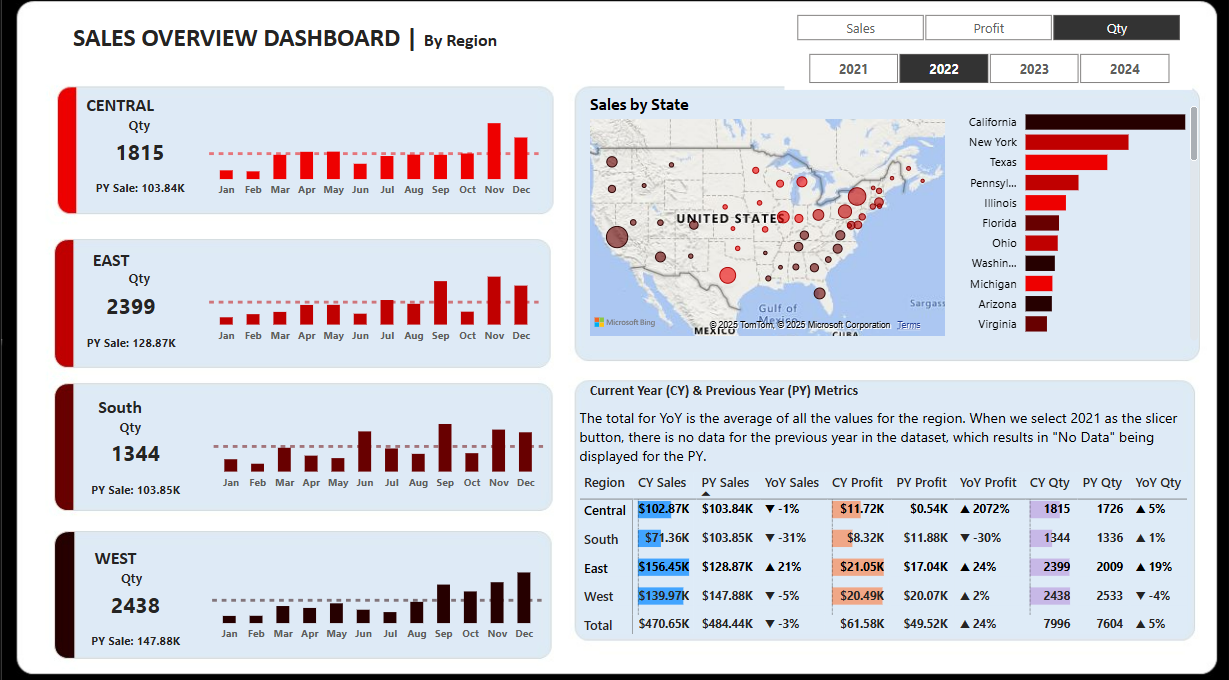

The dashboard page shown, as its layout file describes it:
{"tool":"powerbi","page":{"name":"Page 1","canvas":[1280,720],"ordinal":0},"visuals":[{"type":"slicer","fields":{"Values":["Select Metric.Select Metric"]},"box":[804.3,12.5,448.2,40.6],"z":0},{"type":"card","fields":{"Values":["Sales Data.Total Sales"]},"box":[68.7,140.6,156.2,45.3],"z":1000},{"type":"textbox","box":[79.7,96.8,90.6,43.7],"z":2000},{"type":"slicer","fields":{"Values":["Calendar Table.Year"]},"box":[817,52.5,424.4,44.5],"z":3000},{"type":"card","fields":{"Values":["Sales Data.Dynamic Title"]},"box":[79.7,118.7,132.8,35.9],"z":4000},{"type":"card","fields":{"Values":["Sales Data.PY KPI Sales"]},"box":[79.7,185.9,132.8,32.8],"z":5000},{"type":"clusteredColumnChart","fields":{"Y":["Sales Data.Total Sales"],"Category":["Calendar Table.Month"]},"box":[212.4,106.2,354.5,112.5],"z":6000},{"type":"textbox","box":[32.8,21.9,534.1,48.4],"z":7000},{"type":"card","fields":{"Values":["Sales Data.Total Sales"]},"box":[60,301.5,156.2,45.3],"z":8000},{"type":"textbox","box":[70.9,257.8,90.6,43.7],"z":9000},{"type":"card","fields":{"Values":["Sales Data.PY KPI Sales"]},"box":[70.9,346.8,132.8,32.8],"z":10000},{"type":"clusteredColumnChart","fields":{"Y":["Sales Data.Total Sales"],"Category":["Calendar Table.Month"]},"box":[212.4,257.7,354.5,112.5],"z":11000},{"type":"card","fields":{"Values":["Sales Data.Total Sales"]},"box":[64.8,455.2,156.2,45.3],"z":12000},{"type":"textbox","box":[79.7,410.8,90.6,43.7],"z":13000},{"type":"card","fields":{"Values":["Sales Data.PY KPI Sales"]},"box":[75.7,500.5,132.8,32.8],"z":14000},{"type":"clusteredColumnChart","fields":{"Y":["Sales Data.Total Sales"],"Category":["Calendar Table.Month"]},"box":[217.2,411.4,354.5,112.5],"z":15000},{"type":"card","fields":{"Values":["Sales Data.Total Sales"]},"box":[63.7,612.5,156.2,45.3],"z":16000},{"type":"textbox","box":[74.7,568.7,90.6,43.7],"z":17000},{"type":"card","fields":{"Values":["Sales Data.PY KPI Sales"]},"box":[74.7,657.7,132.8,32.8],"z":18000},{"type":"clusteredColumnChart","fields":{"Y":["Sales Data.Total Sales"],"Category":["Calendar Table.Month"]},"box":[216.2,568.6,354.5,112.5],"z":19000},{"type":"card","fields":{"Values":["Sales Data.Dynamic Title"]},"box":[79.7,278,132.8,35.9],"z":20000},{"type":"card","fields":{"Values":["Sales Data.Dynamic Title"]},"box":[70.3,432.6,132.8,35.9],"z":21000},{"type":"card","fields":{"Values":["Sales Data.Dynamic Title"]},"box":[71.8,589.6,132.3,35.9],"z":22000},{"type":"map","title":"Sales by State","fields":{"Size":["Sales Data.Total Sales"],"Category":["Sales Data.State/Province"],"Series":["Sales Data.Region"]},"box":[609.1,101.5,379.5,257.7],"z":23000},{"type":"barChart","fields":{"Y":["Sales Data.Total Sales"],"Category":["Sales Data.State/Province"],"Series":["Sales Data.Region"]},"box":[988.6,101.5,263.9,262.4],"z":24000},{"type":"pivotTable","fields":{"Rows":["Sales Data.Region"],"Values":["Sales Data.CY Sales","Sales Data.PY Sales","Sales Data.YoY Sales","Sales Data.CY Profit","Sales Data.PY Profit","Sales Data.YoY Profit","Sales Data.CY Qty","Sales Data.PY Qty","Sales Data.YoY Qty"]},"box":[598.2,490.4,643.5,190.5],"z":25000},{"type":"textbox","box":[609.1,395.1,299.9,37.5],"z":25001},{"type":"textbox","box":[598.2,423.3,654.4,76.5],"z":25002}]}

Visuals, with their boxes in screenshot pixels (x1, y1, x2, y2), scaled from the page's 1280x720 canvas onto the 1229x680 screenshot:
slicer - Select Metric.Select Metric: [left=772, top=12, right=1203, bottom=50]
card - Sales Data.Total Sales: [left=66, top=133, right=216, bottom=176]
textbox: [left=77, top=91, right=164, bottom=133]
slicer - Calendar Table.Year: [left=784, top=50, right=1192, bottom=92]
card - Sales Data.Dynamic Title: [left=77, top=112, right=204, bottom=146]
card - Sales Data.PY KPI Sales: [left=77, top=176, right=204, bottom=207]
clusteredColumnChart - Sales Data.Total Sales x Calendar Table.Month: [left=204, top=100, right=544, bottom=207]
textbox: [left=31, top=21, right=544, bottom=66]
card - Sales Data.Total Sales: [left=58, top=285, right=208, bottom=328]
textbox: [left=68, top=243, right=155, bottom=285]
card - Sales Data.PY KPI Sales: [left=68, top=328, right=196, bottom=359]
clusteredColumnChart - Sales Data.Total Sales x Calendar Table.Month: [left=204, top=243, right=544, bottom=350]
card - Sales Data.Total Sales: [left=62, top=430, right=212, bottom=473]
textbox: [left=77, top=388, right=164, bottom=429]
card - Sales Data.PY KPI Sales: [left=73, top=473, right=200, bottom=504]
clusteredColumnChart - Sales Data.Total Sales x Calendar Table.Month: [left=209, top=389, right=549, bottom=495]
card - Sales Data.Total Sales: [left=61, top=578, right=211, bottom=621]
textbox: [left=72, top=537, right=159, bottom=578]
card - Sales Data.PY KPI Sales: [left=72, top=621, right=199, bottom=652]
clusteredColumnChart - Sales Data.Total Sales x Calendar Table.Month: [left=208, top=537, right=548, bottom=643]
card - Sales Data.Dynamic Title: [left=77, top=263, right=204, bottom=296]
card - Sales Data.Dynamic Title: [left=67, top=409, right=195, bottom=442]
card - Sales Data.Dynamic Title: [left=69, top=557, right=196, bottom=591]
"Sales by State" map: [left=585, top=96, right=949, bottom=339]
barChart - Sales Data.Total Sales x Sales Data.State/Province: [left=949, top=96, right=1203, bottom=344]
pivotTable - Sales Data.Region x Sales Data.CY Sales: [left=574, top=463, right=1192, bottom=643]
textbox: [left=585, top=373, right=873, bottom=409]
textbox: [left=574, top=400, right=1203, bottom=472]
